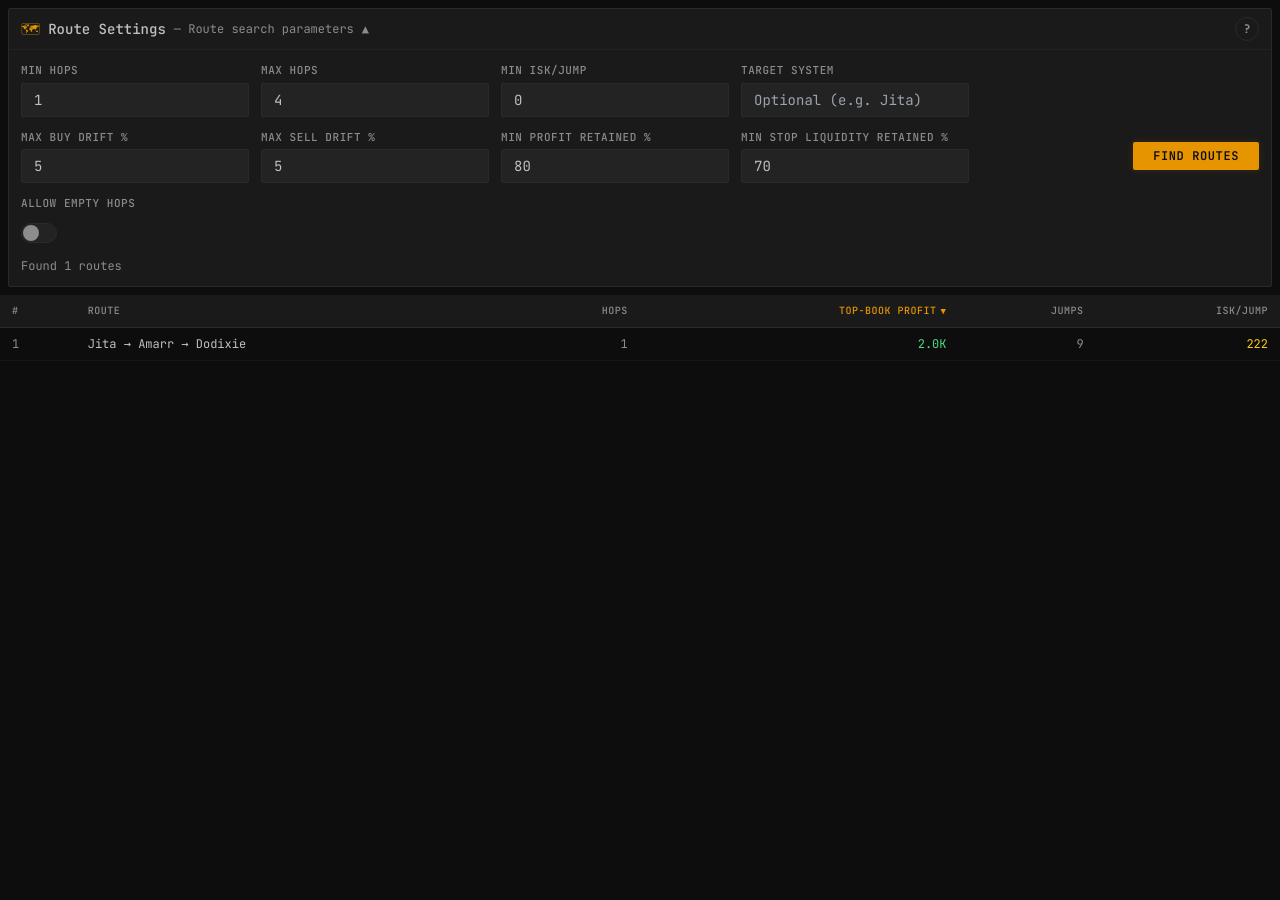
it: RouteBuilder planner interactions › shows planner CTA buttons and enables them for plannable routes
The image size is (1280, 900).
Double-click the row with test id "route-result-row-0".
double_click(640, 344)  # box left=0, top=327, right=1279, bottom=360
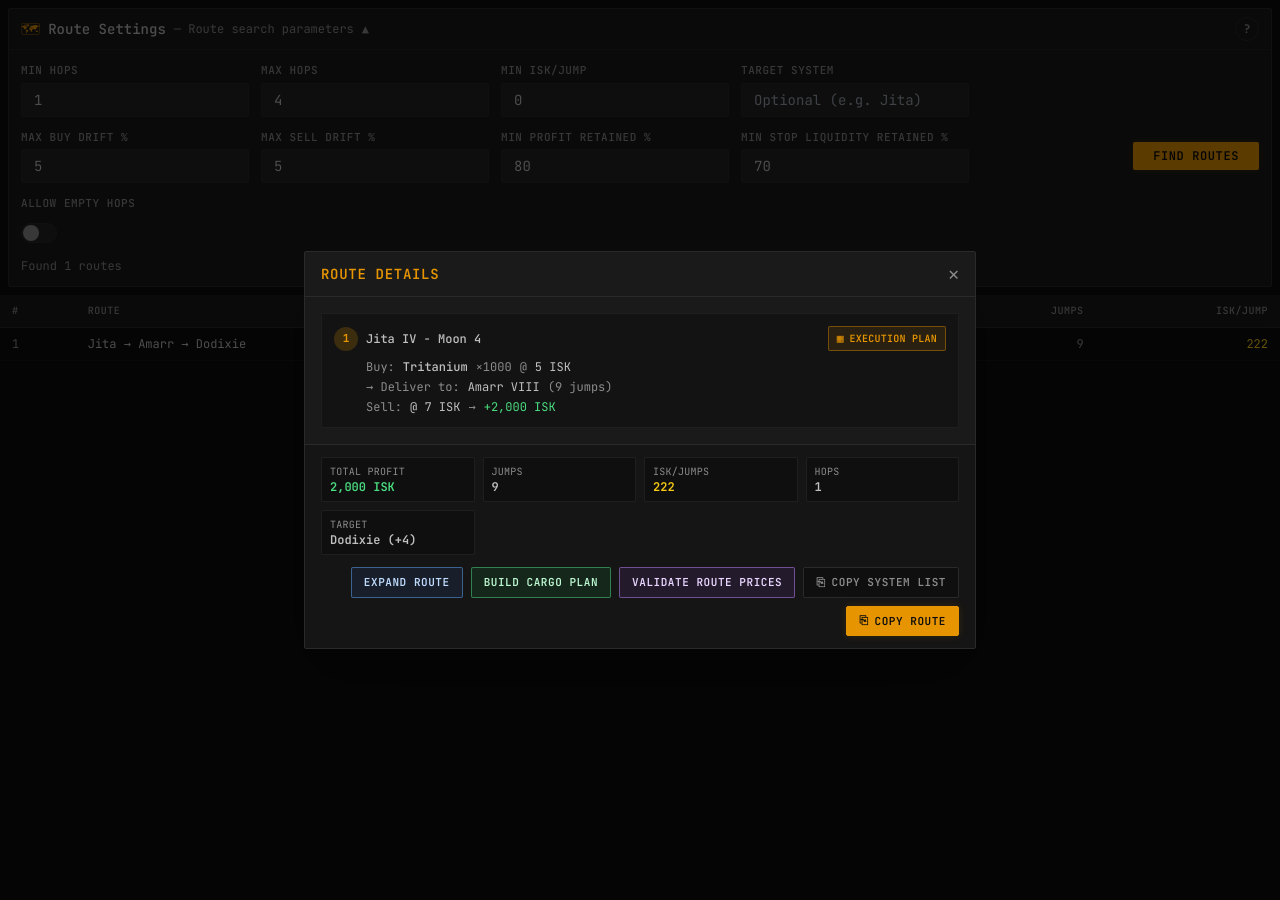
Check: the button with test id "route-planner-cta-expand" is enabled, box left=351, top=567, right=463, bottom=598
Check: the button with test id "route-planner-cta-cargo" is enabled, box left=471, top=567, right=611, bottom=598
Check: the button with test id "route-planner-cta-validate" is enabled, box left=619, top=567, right=795, bottom=598
